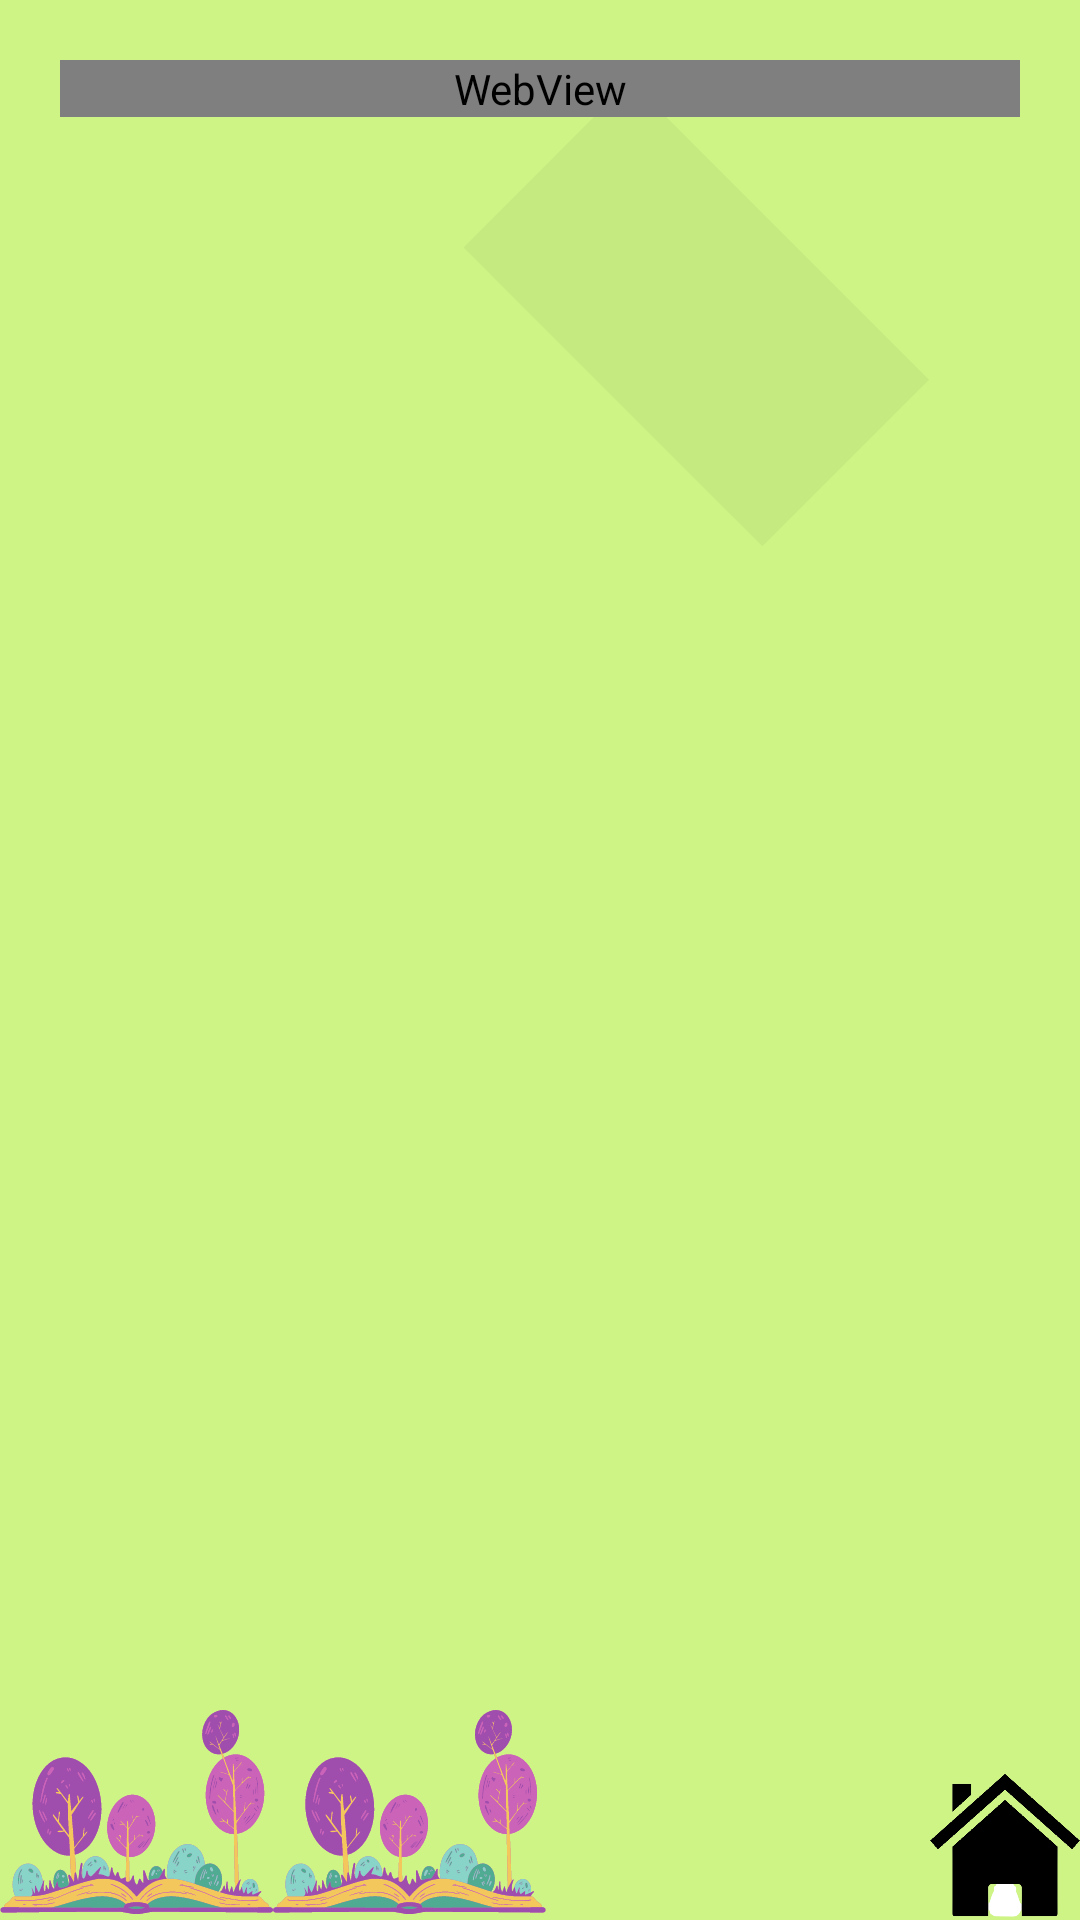

Locate icon controls on the screen. Image size 1080x1920, boxes as (x1,y1,x2,y2).
rumah: (930,1774,1080,1917)
